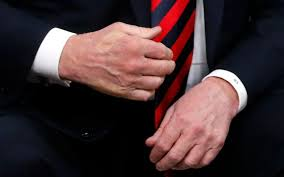hand: (59, 11, 177, 102), (137, 105, 254, 173)
